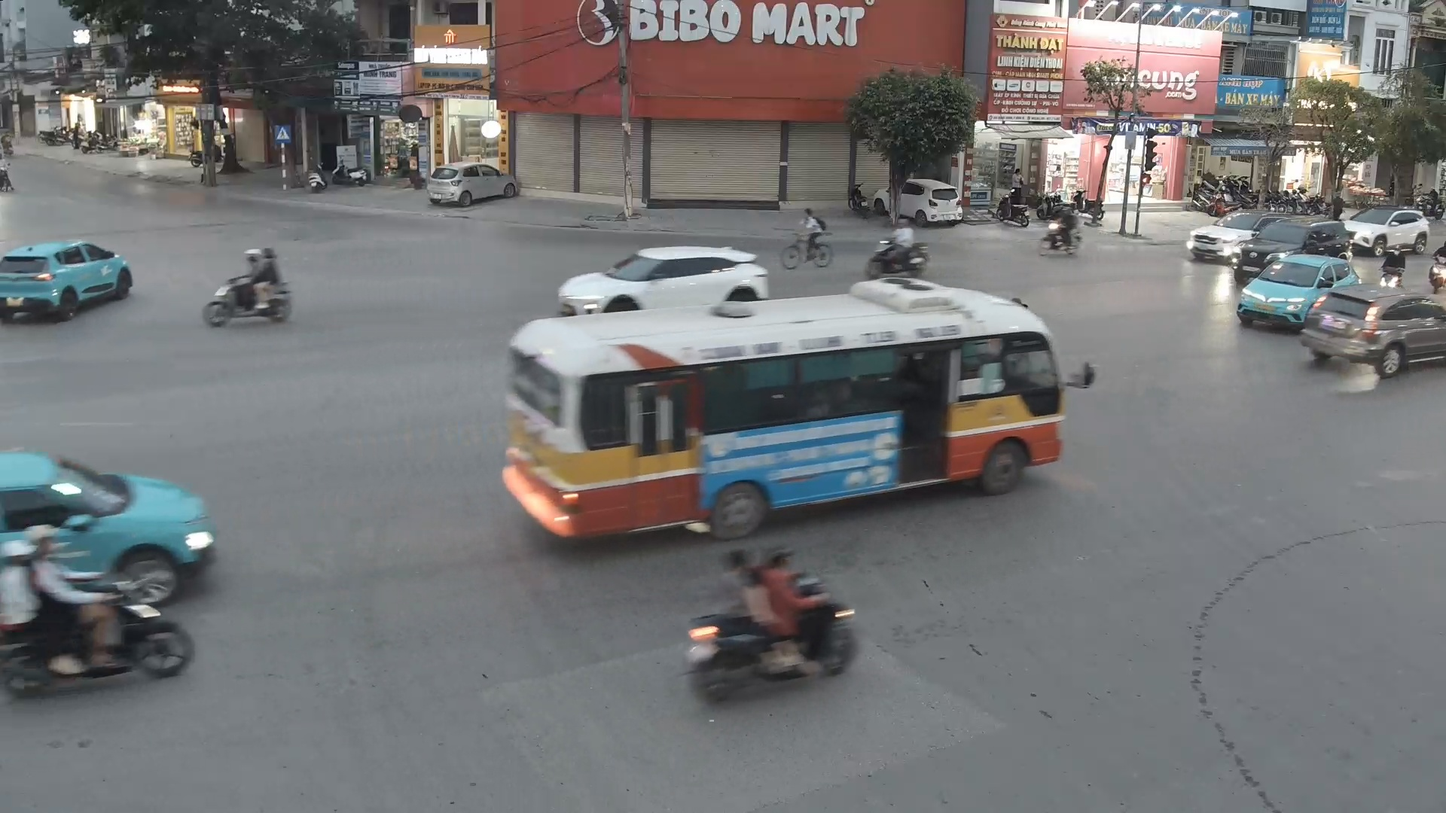bus: (481, 304, 1114, 538)
car: (0, 446, 218, 694), (554, 241, 772, 320), (1302, 282, 1445, 379), (0, 238, 135, 325), (1237, 249, 1360, 333), (426, 159, 520, 210), (1346, 205, 1431, 257)
motorbike: (680, 493, 859, 706), (199, 243, 297, 330), (1380, 242, 1407, 290), (1427, 247, 1445, 292)
